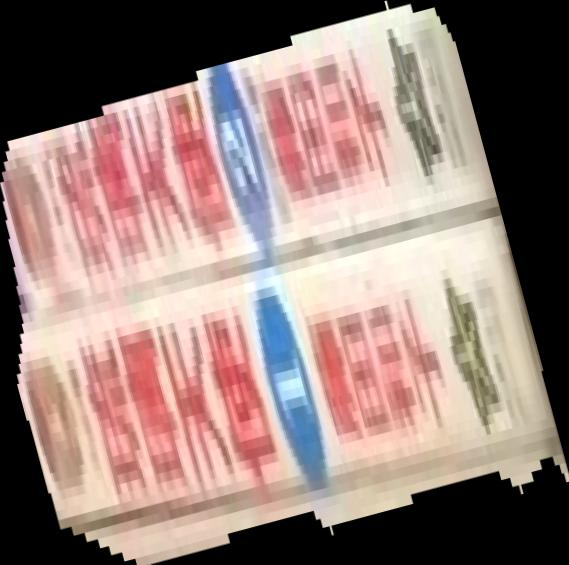flat: (1, 1, 569, 565)
